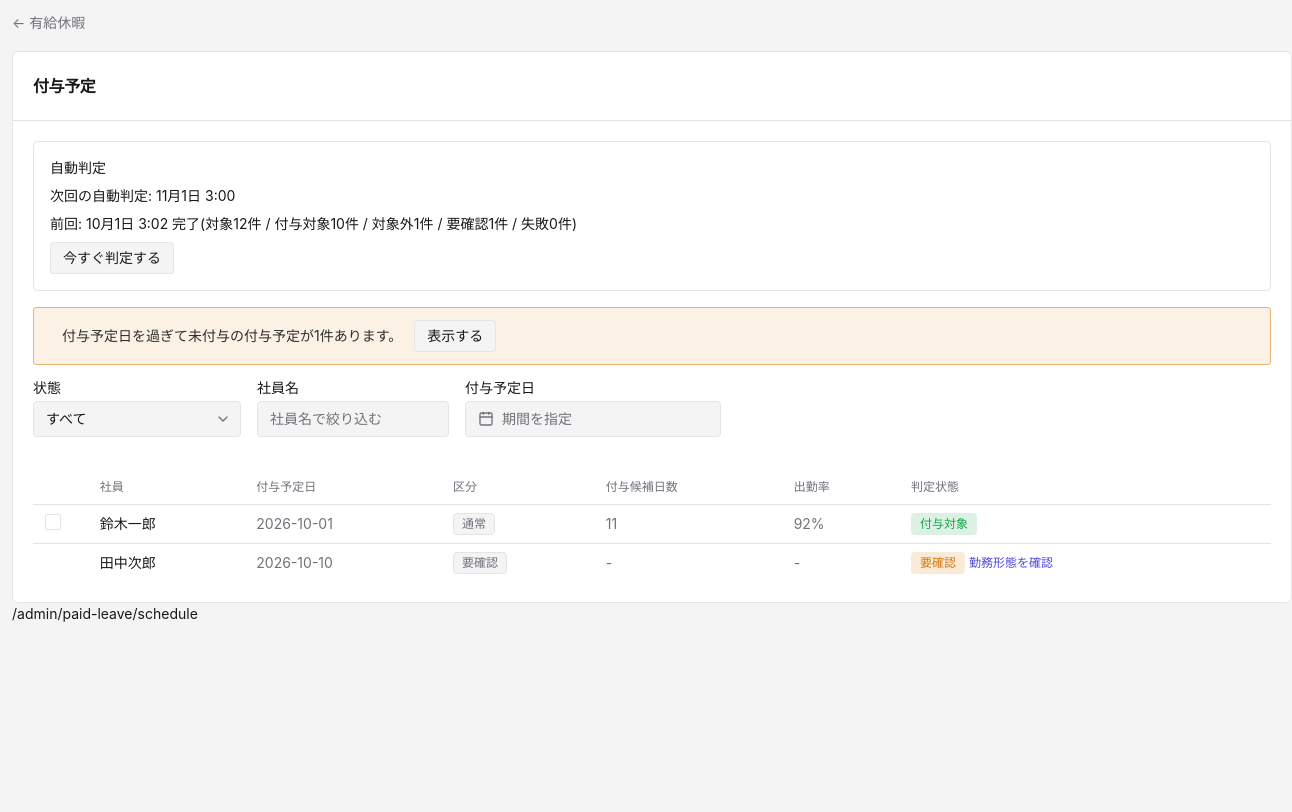
Test: PaidLeaveSchedulePage › shows an alert for overdue entries and switches to the overdue filter from it
Expected: the text "付与予定日を過ぎて未付与の付与予定が1件あります。" is shown, [62,326,402,346]
Click the button "表示する": (455, 336) [414,320,496,352]
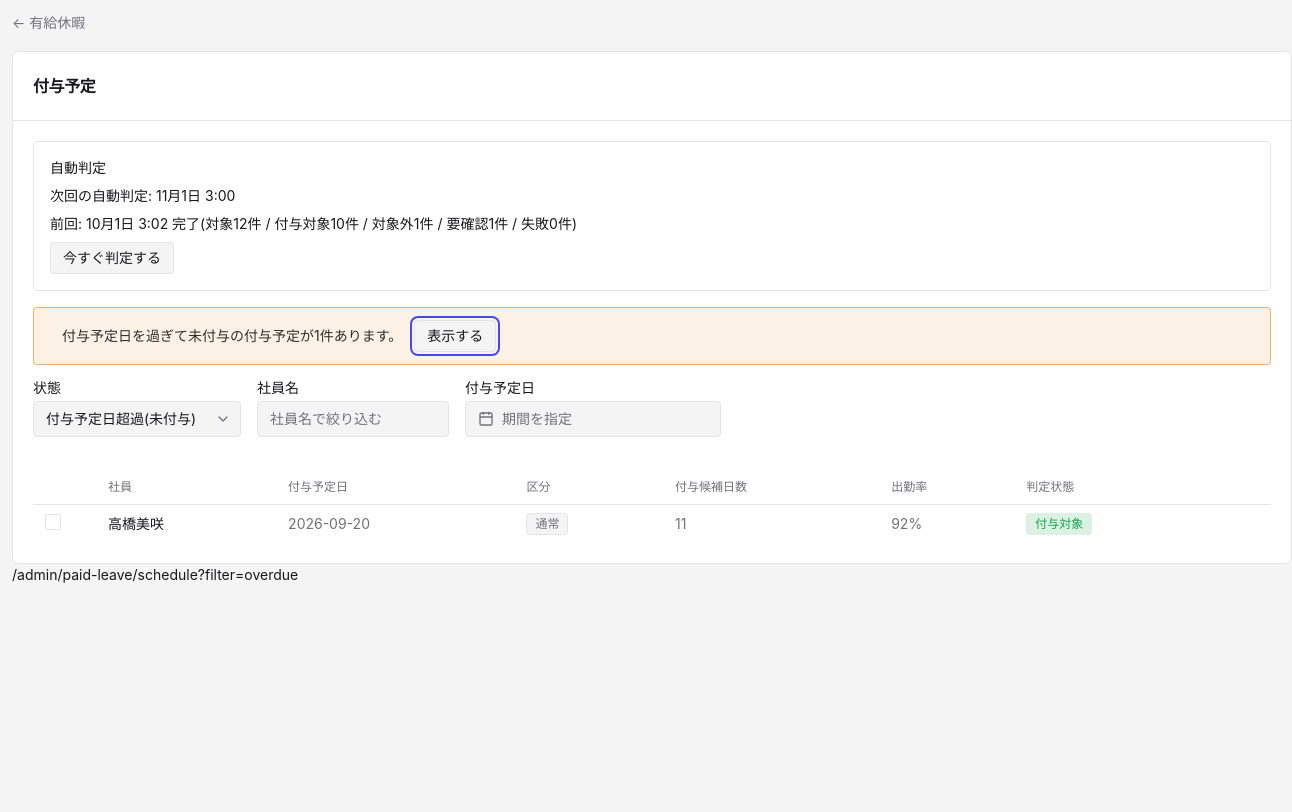
Now the text with test id "location" shows "filter=overdue", box [12,566,298,583]
